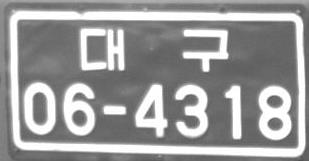0: (22, 81, 56, 135)
1: (218, 83, 252, 140)
3: (174, 83, 209, 138)
4: (134, 83, 168, 138)
6: (62, 81, 96, 135)
8: (257, 84, 292, 139)
대구_D: (79, 26, 230, 72)
